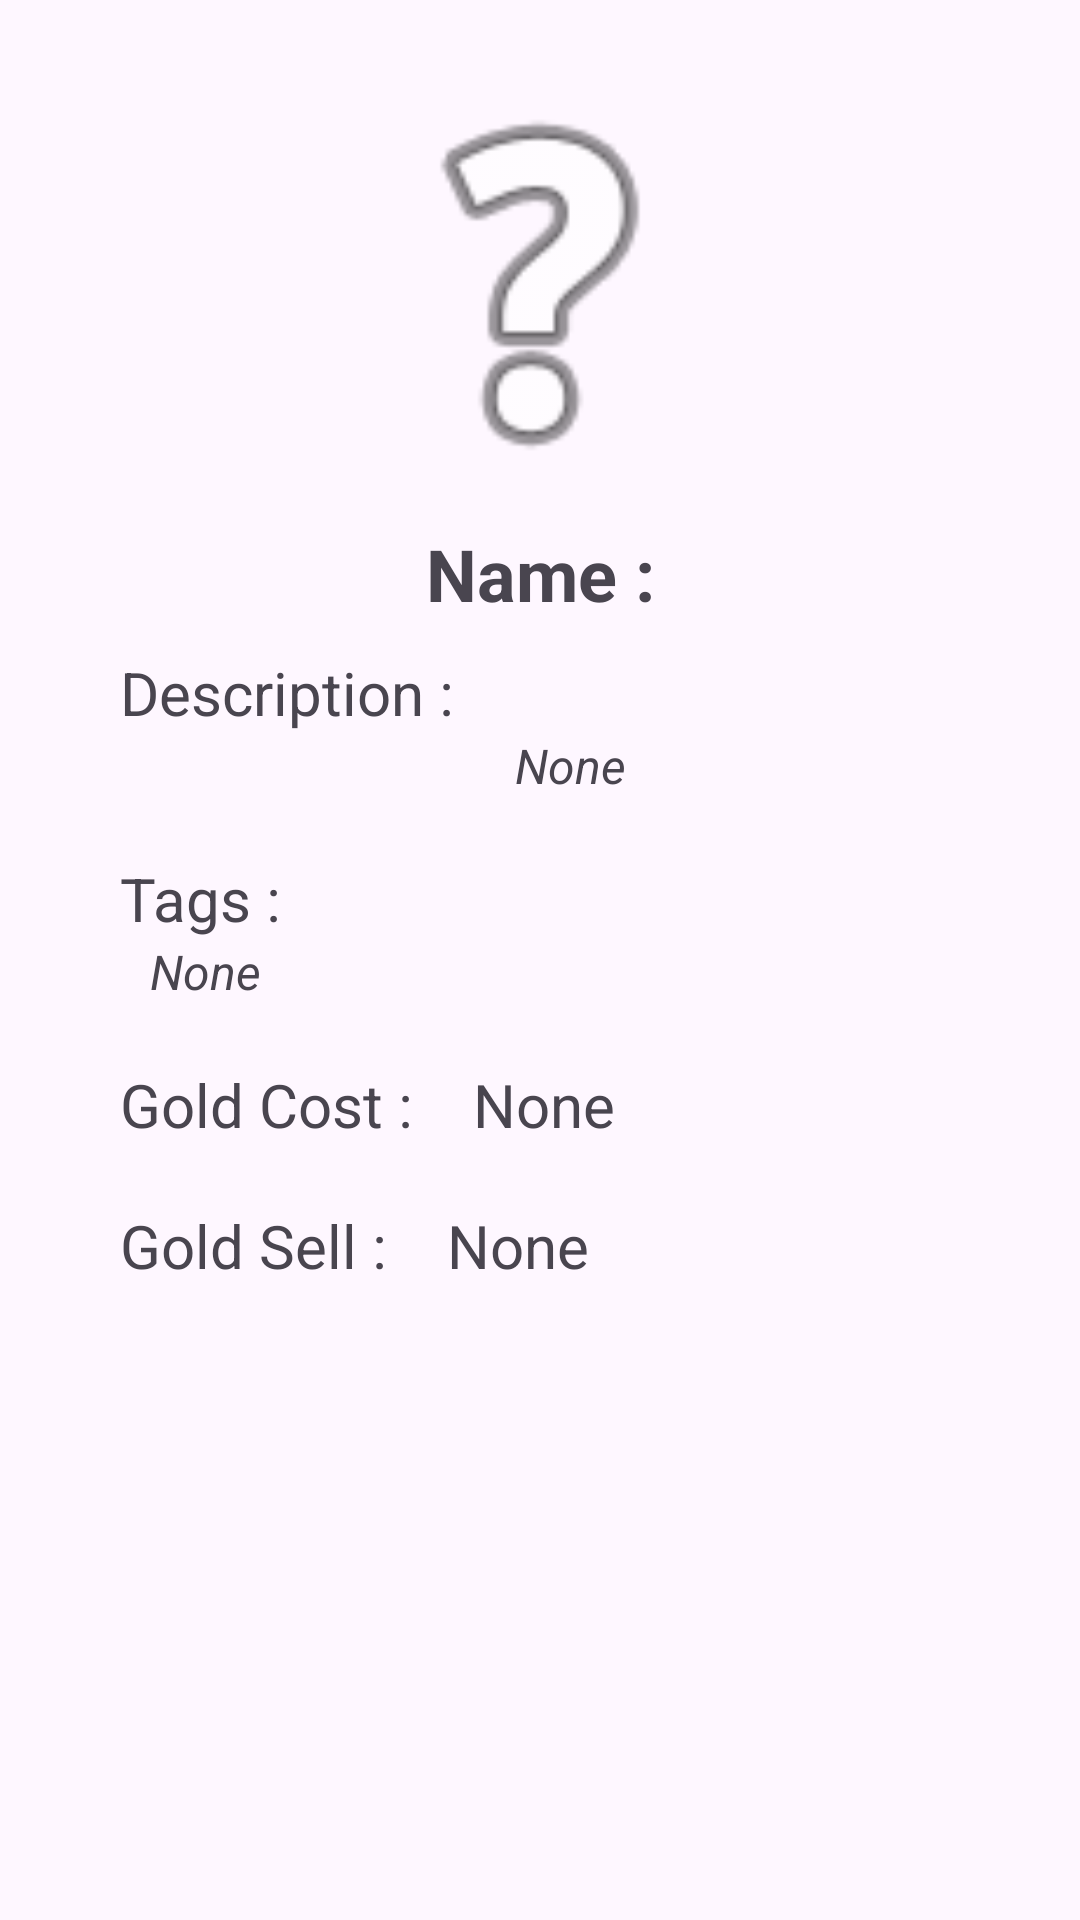

Point at icon controls on the screen. Image size 1080*1920, points as (x,y).
help: (540,285)
